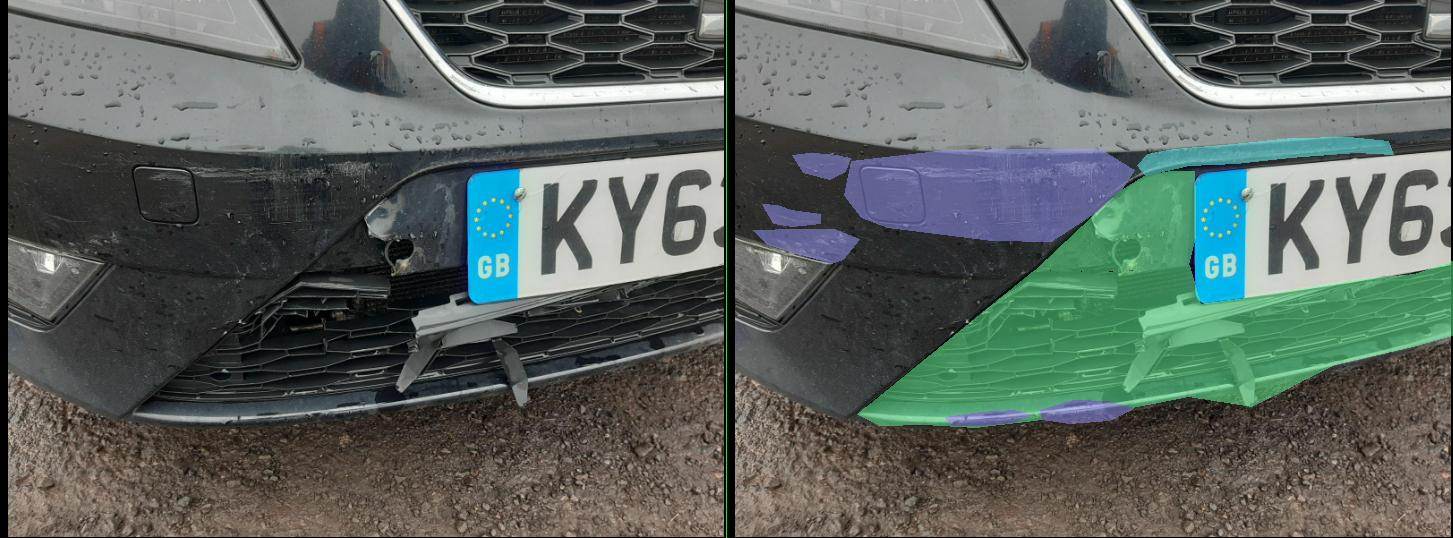Broken part: (260, 261, 1451, 427), (618, 171, 937, 271)
Flaking: (821, 137, 1333, 175)
Scratch: (234, 149, 815, 241), (52, 229, 264, 263), (626, 400, 813, 423), (130, 153, 246, 179), (436, 410, 608, 425), (70, 204, 186, 226)
